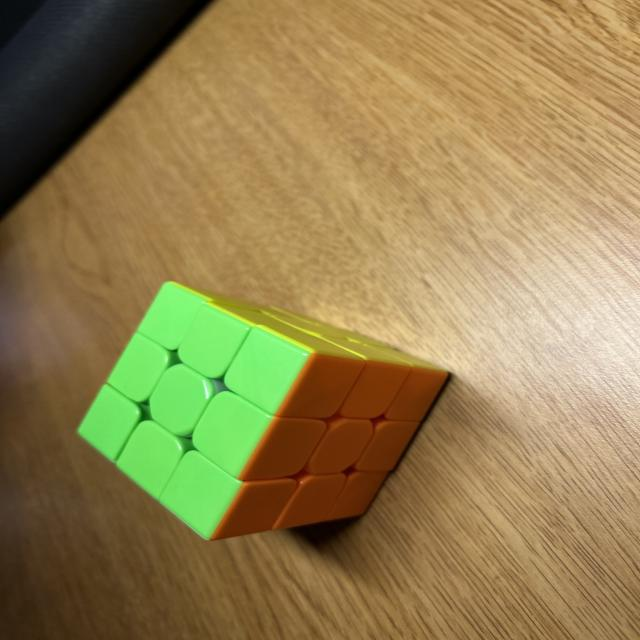Rubiks Cube: (76, 282, 448, 541)
